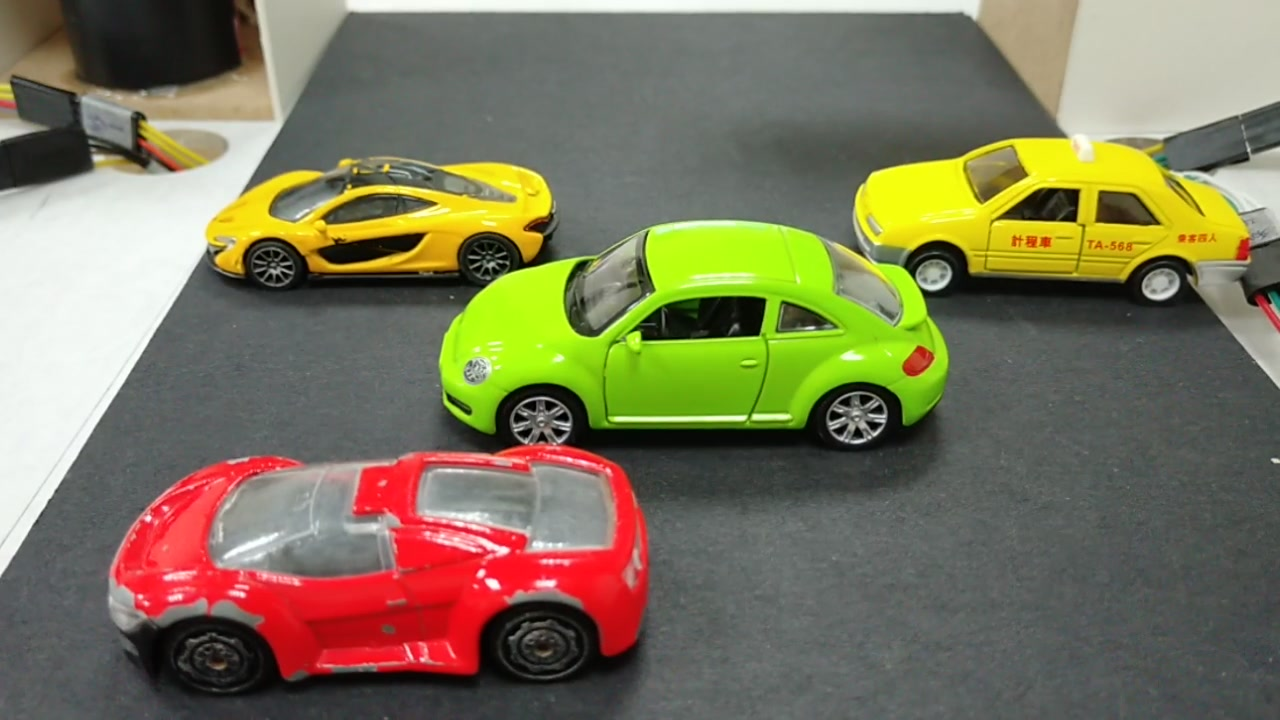car: (433, 226, 950, 461), (124, 449, 652, 676), (831, 151, 1248, 308), (206, 168, 556, 283)
